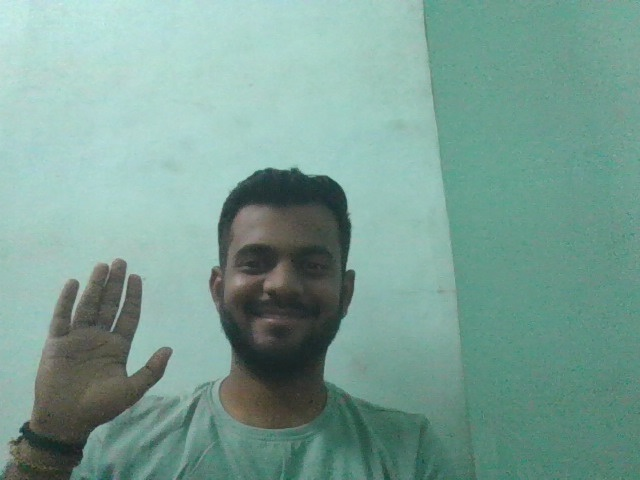hello: (17, 251, 206, 427)
